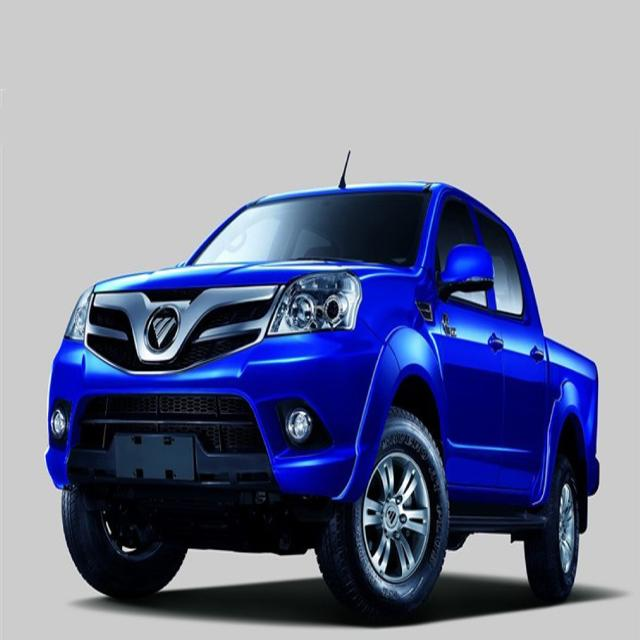front_bumper: (46, 321, 398, 505)
front_glass: (188, 182, 429, 269)
front_left_side_door: (428, 179, 507, 529)
front_left_side_light: (266, 264, 362, 339)
front_left_side_mirror: (438, 238, 496, 300)
front_right_side_light: (65, 283, 97, 346)
wheel: (319, 406, 448, 613), (61, 503, 191, 596), (522, 445, 583, 594)
